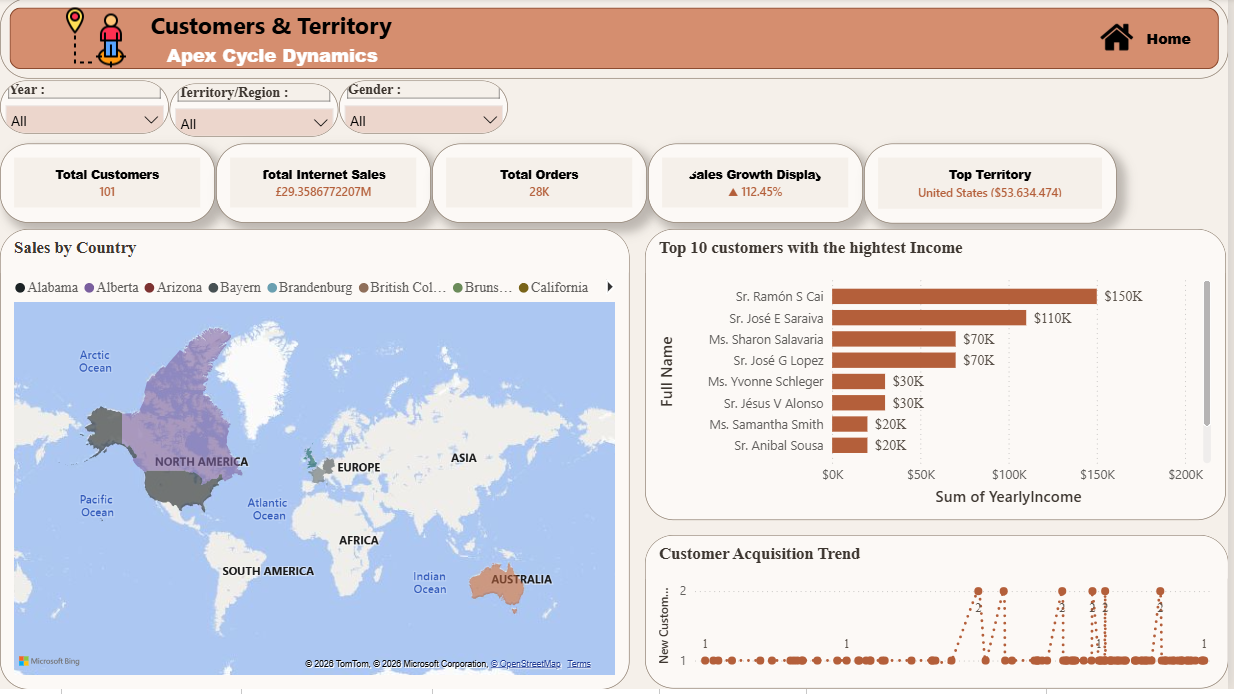

The page's visual inventory and layout, read from the dashboard file:
{"tool":"powerbi","page":{"name":"Customers & Territory","canvas":[1280,720],"ordinal":5},"visuals":[{"type":"shape","box":[0,0,1280,84],"z":0},{"type":"textbox","box":[88,6,390,62],"z":1000},{"type":"textbox","title":"Apex Cycle Dynamics","box":[131.2,41.2,304.7,42.1],"z":2000},{"type":"image","box":[1126,22.9,76.8,34.5],"z":3000},{"type":"textbox","box":[1180.9,26,72.3,42.6],"z":4000},{"type":"image","box":[0,8.3,199.7,66.6],"z":5000},{"type":"slicer","fields":{"Values":["DimCustomer.Gender"]},"box":[353.3,86.7,176.2,55],"z":6000},{"type":"slicer","title":"Territory/Region","fields":{"Values":["DimGeography.Country Region Name"]},"box":[176.7,88.3,176.2,55],"z":7000},{"type":"slicer","fields":{"Values":["DimDate.CalendarYear"]},"box":[0,86.7,176.2,55],"z":8000},{"type":"cardVisual","title":"Total sales","fields":{"Data":["DimCustomer.Customers"]},"box":[0,151.2,224.3,82.9],"z":9000},{"type":"cardVisual","title":"Total sales","fields":{"Data":["FactInternetSales.Total Internet Sales"]},"box":[225,151.7,224.3,82.9],"z":10000},{"type":"cardVisual","title":"Total sales","fields":{"Data":["FactInternetSales.Total Orders"]},"box":[450,151.7,224.3,82.9],"z":11000},{"type":"cardVisual","title":"Total sales","fields":{"Data":["FactInternetSales.Sales Growth Display"]},"box":[675,151.7,224.3,82.9],"z":12000},{"type":"cardVisual","title":"Total sales","fields":{"Data":["_Measures.Top Territory"]},"box":[900,151.7,263.3,83.3],"z":13000},{"type":"filledMap","title":"Sales by Country","fields":{"Category":["DimGeography.Country Region Name","DimGeography.City"],"Series":["DimGeography.StateProvinceName"]},"box":[0,240,656,480],"z":14000},{"type":"clusteredBarChart","title":"Top 10 customers with the hightest Income","fields":{"Category":["DimCustomer.Full Name"],"Y":["Sum(DimCustomer.YearlyIncome)"]},"box":[672,240,605,303.3],"z":15000},{"type":"lineChart","title":"Customer Acquisition Trend","fields":{"Category":["DimCustomer.DateFirstPurchase"],"Y":["DimCustomer.New Customers"]},"box":[672,560,608,160],"z":16000}]}

Visuals, with their boxes in screenshot pixels (x1, y1, x2, y2), scaled from the page's 1280x720 canvas onto the 1234x694 screenshot:
shape: select_region(0, 0, 1233, 81)
textbox: select_region(85, 6, 461, 66)
"Apex Cycle Dynamics" textbox: select_region(126, 40, 420, 80)
image: select_region(1086, 22, 1160, 55)
textbox: select_region(1138, 25, 1208, 66)
image: select_region(0, 8, 193, 72)
slicer - DimCustomer.Gender: select_region(341, 84, 510, 137)
"Territory/Region" slicer: select_region(170, 85, 340, 138)
slicer - DimDate.CalendarYear: select_region(0, 84, 170, 137)
"Total sales" cardVisual: select_region(0, 146, 216, 226)
"Total sales" cardVisual: select_region(217, 146, 433, 226)
"Total sales" cardVisual: select_region(434, 146, 650, 226)
"Total sales" cardVisual: select_region(651, 146, 867, 226)
"Total sales" cardVisual: select_region(868, 146, 1121, 227)
"Sales by Country" filledMap: select_region(0, 231, 632, 693)
"Top 10 customers with the hightest Income" clusteredBarChart: select_region(648, 231, 1231, 524)
"Customer Acquisition Trend" lineChart: select_region(648, 540, 1233, 693)
